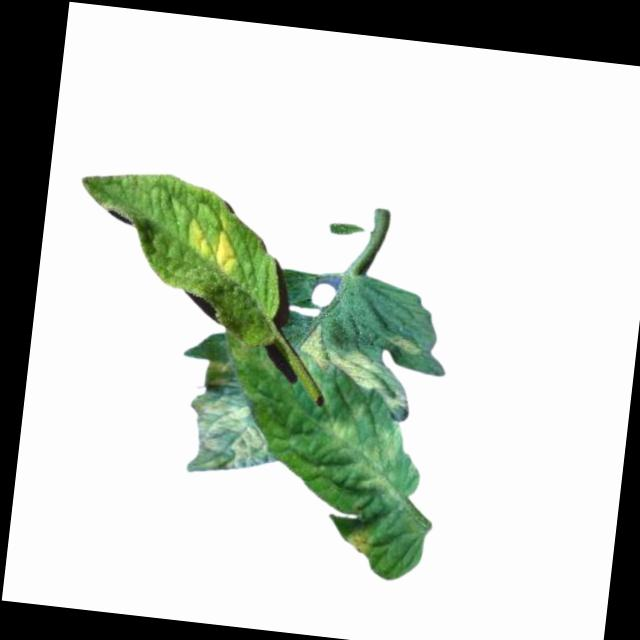Leaf_Mold: (295, 320, 410, 403), (182, 391, 269, 480), (306, 412, 398, 494), (183, 215, 242, 278), (342, 528, 374, 561), (391, 334, 423, 356)
